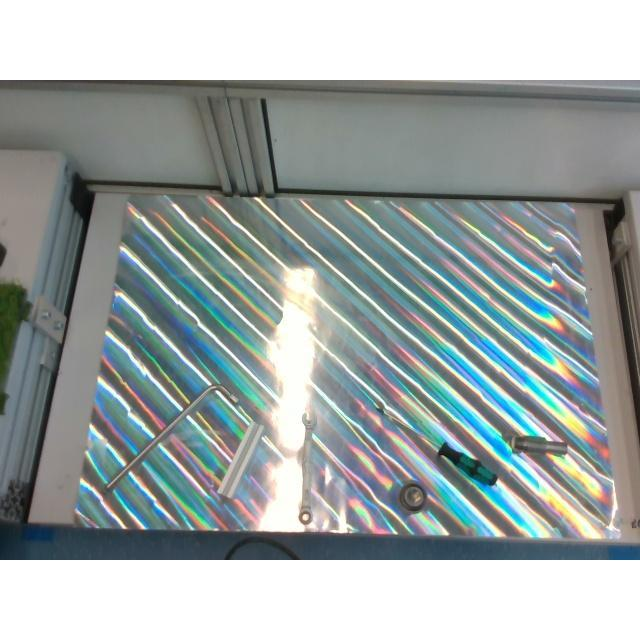AllenKey: (100, 384, 240, 494)
Axis2: (509, 436, 567, 456)
Bearing2: (398, 482, 427, 512)
F20_20_G: (217, 422, 263, 498)
Screwdriver: (376, 402, 496, 486)
Wrench: (298, 411, 316, 525)
